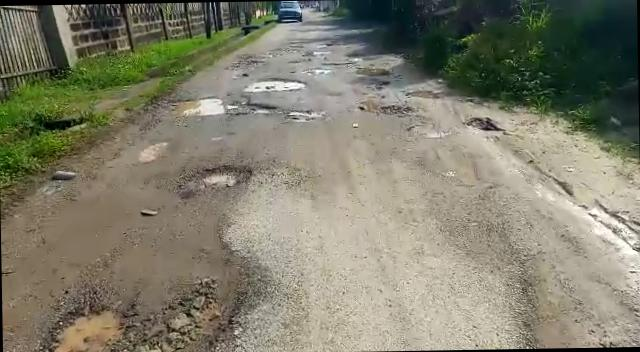pothole: (39, 303, 127, 352), (172, 94, 276, 118), (178, 162, 252, 188), (244, 74, 310, 92), (288, 108, 332, 124)
